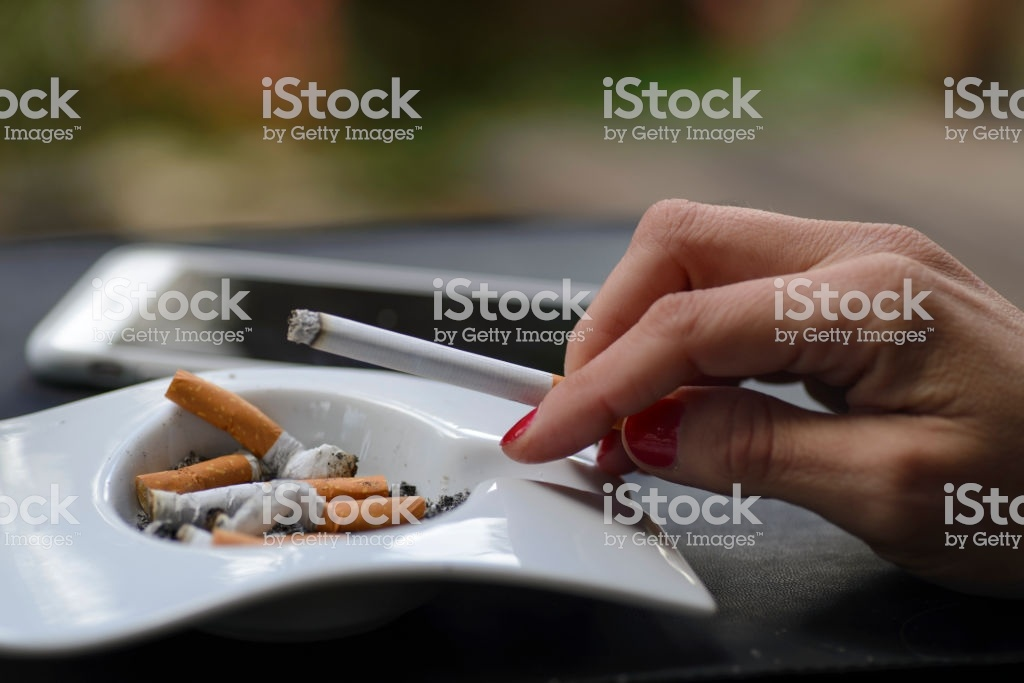sigaretta: (290, 314, 606, 414)
